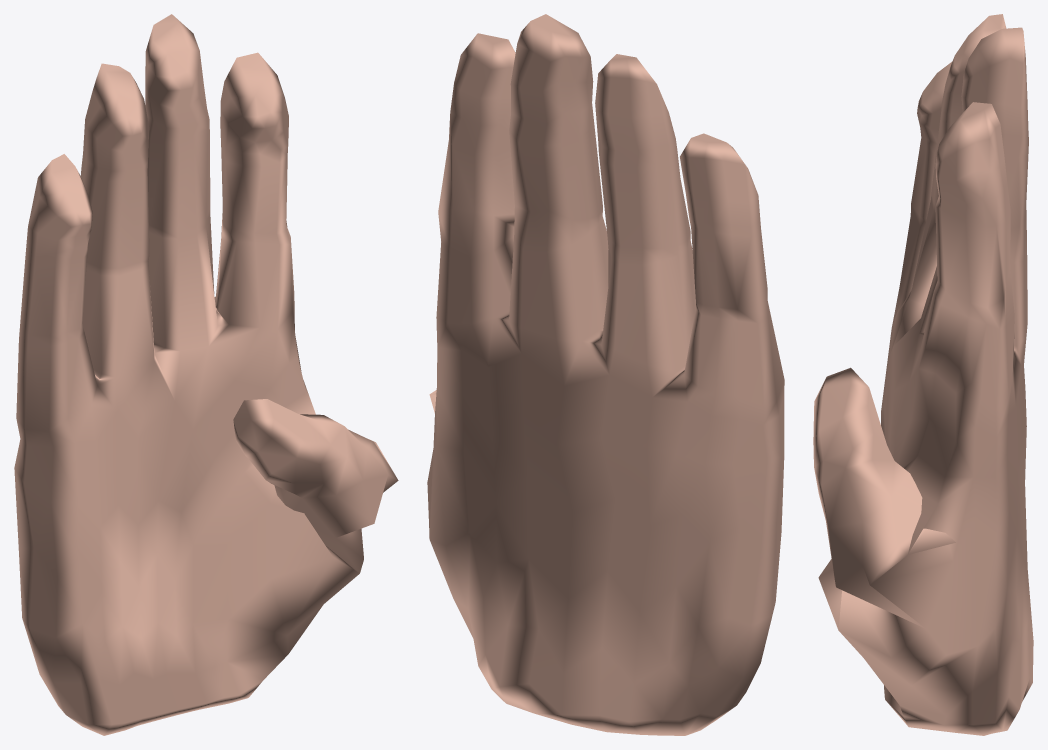
File: MAO_B.obj
The picture shows the model from 3 angles, left to right: view 1: azimuth 30°, elevation 25°; view 2: azimuth 150°, elevation 25°; view 3: azimuth 270°, elevation 25°; orthographic projection. The views are drawn at different scales.
Visible parts, largest first — view 1: mao_dir:mao_dir; view 2: mao_dir:mao_dir; view 3: mao_dir:mao_dir.
Part boxes in pixels (left/top/right/bottom): mao_dir:mao_dir: left=14, top=14, right=398, bottom=735; mao_dir:mao_dir: left=427, top=14, right=784, bottom=735; mao_dir:mao_dir: left=813, top=14, right=1033, bottom=735.
Bounding box in the file's own units: 134 × 243 × 70.56.
